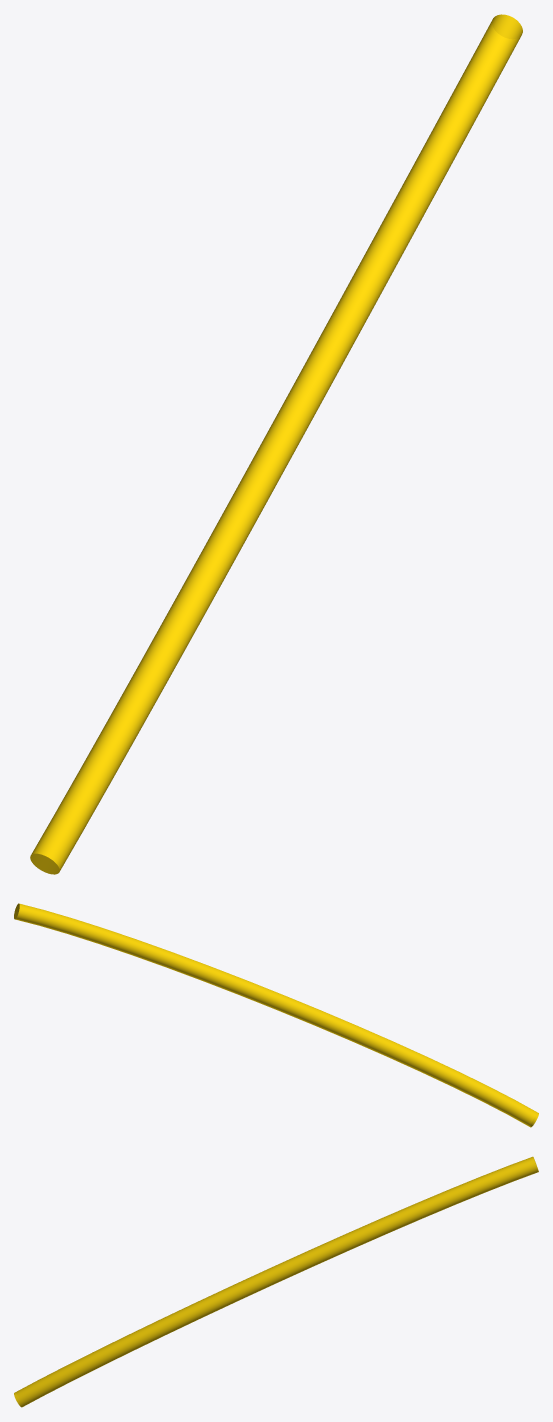
File: Event_420094457_track_5.fbx
3 renders of one model, top to bottom at view 1: azimuth 30°, elevation 25°; view 2: azimuth 150°, elevation 25°; view 3: azimuth 330°, elevation 25°, orthographic. The views are drawn at different scales.
Visible parts, largest first — view 1: Model; view 2: Model; view 3: Model.
Boxes of the visible parts, bbox=[...] form: Model: bbox=[30, 14, 522, 874]; Model: bbox=[14, 903, 538, 1127]; Model: bbox=[14, 1156, 538, 1407].
Bounding box in the file's own units: 1.07 × 0.6267 × 0.7246.
